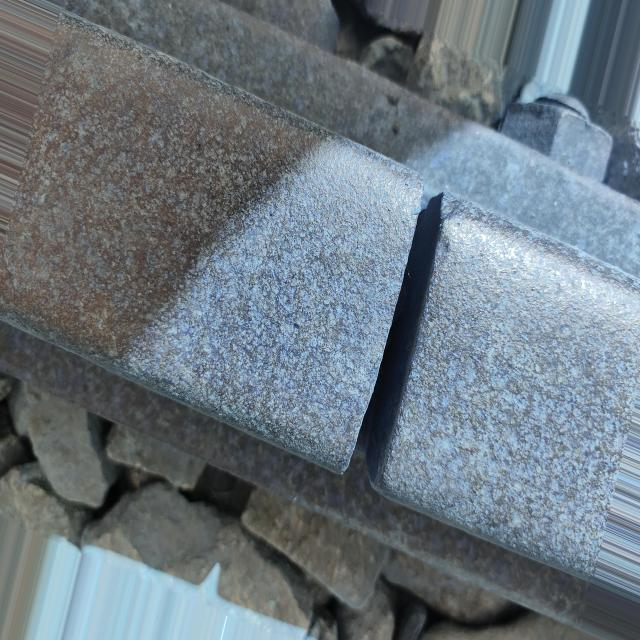crack: (327, 143, 476, 522)
